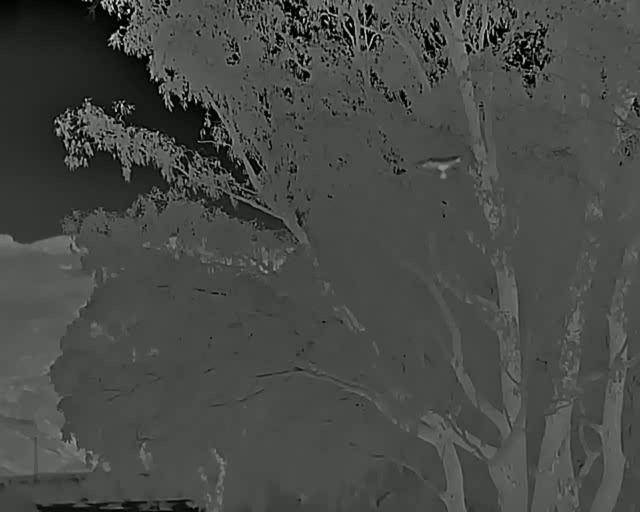DJI-Phantom: (424, 154, 465, 181)
